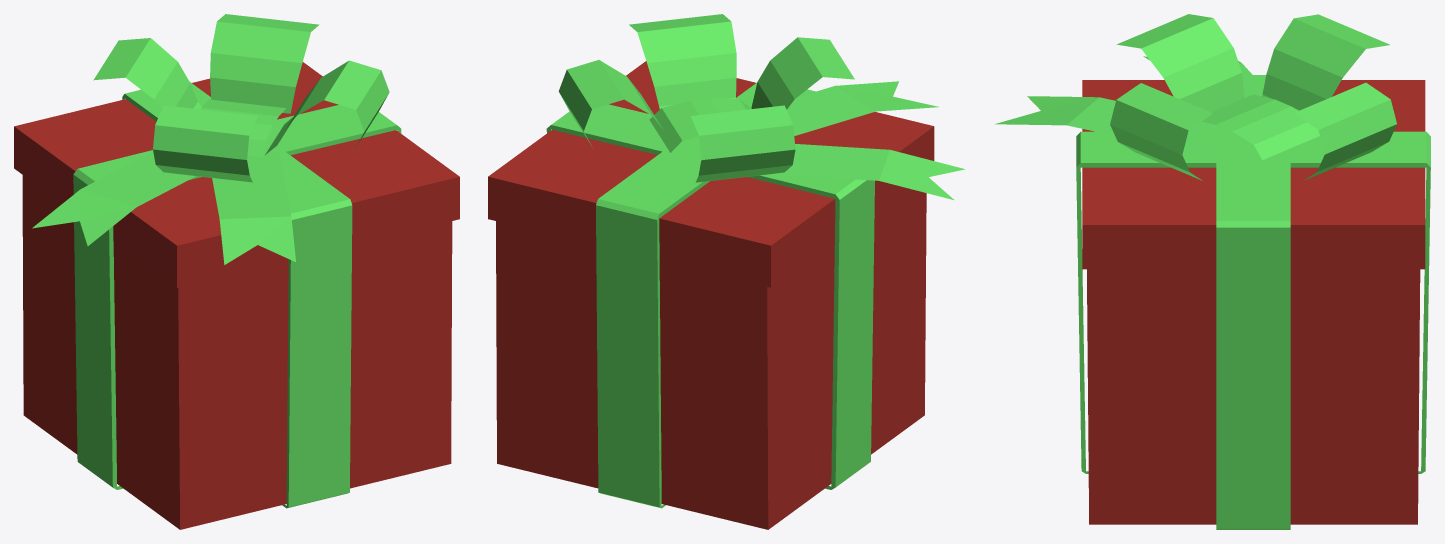
Rendered from Present.glb.
3 views of the same model, side by side, from view 1: azimuth 30°, elevation 25°; view 2: azimuth 150°, elevation 25°; view 3: azimuth 270°, elevation 25° (orthographic). The views are drawn at different scales.
Visible parts, largest first — view 1: Present; view 2: Present; view 3: Present.
Boxes of the visible parts, left/top/right/bottom form: Present: left=14, top=14, right=459, bottom=529; Present: left=488, top=14, right=964, bottom=529; Present: left=995, top=14, right=1430, bottom=529.
Bounding box in the file's own units: 0.4249 × 0.41 × 0.4121.
2 materials, 1 textured.
